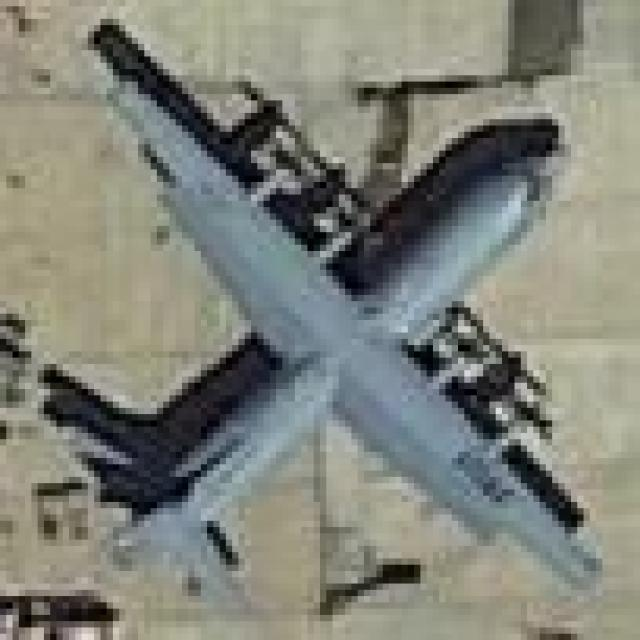C-130_TopDown: (38, 11, 605, 616)
